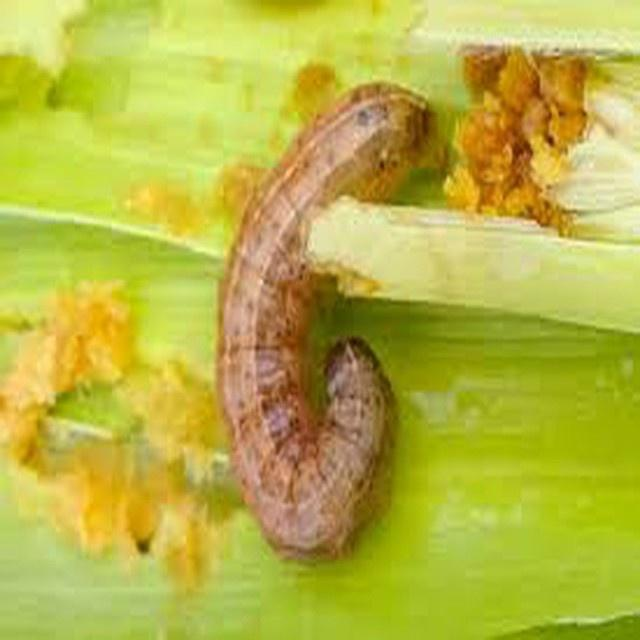gusano_cogollero: (212, 81, 450, 564)
